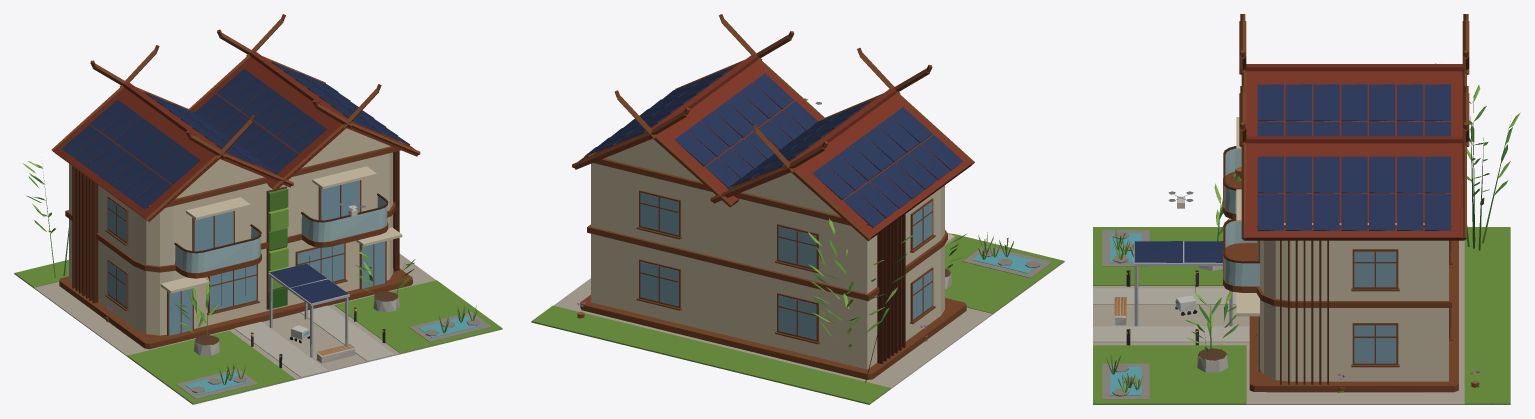
File: home_2.glb
The picture shows the model from 3 angles, left to right: view 1: azimuth 30°, elevation 25°; view 2: azimuth 150°, elevation 25°; view 3: azimuth 270°, elevation 25°; orthographic projection. The views are drawn at different scales.
Parts seen in each view (by area): view 1: body; view 2: body; view 3: body.
Part boxes in pixels (bbox=[...]): body: bbox=[14, 14, 502, 404]; body: bbox=[531, 14, 1064, 404]; body: bbox=[1093, 14, 1520, 404].
Bounding box in the file's own units: 16.5 × 10.68 × 16.29.
